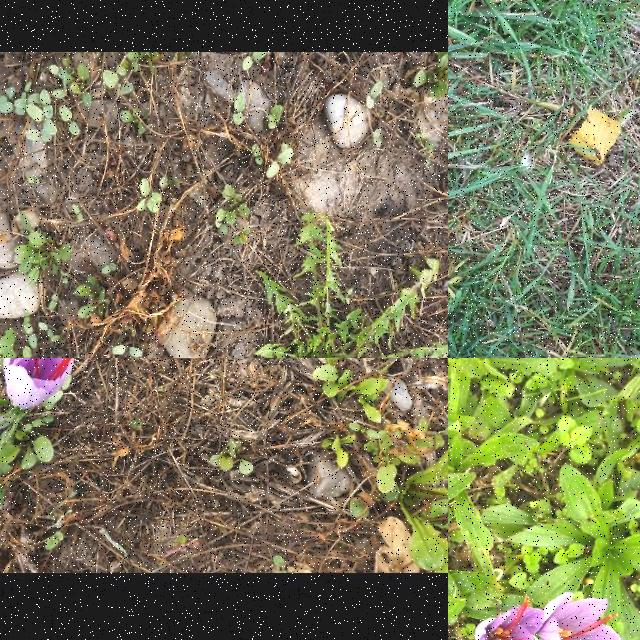flower: (3, 358, 84, 410), (536, 593, 622, 640), (476, 597, 544, 640)
